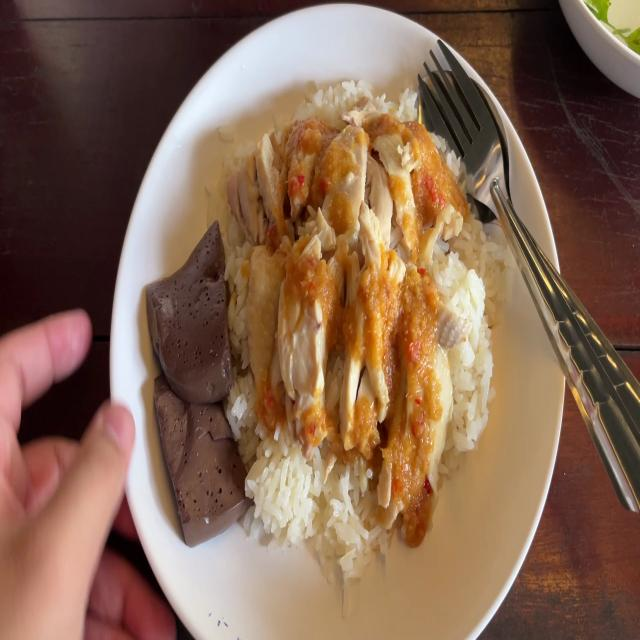boiled_chicken: (240, 126, 442, 466)
boiled_chicken_blood_jelly: (139, 205, 232, 399), (151, 361, 246, 538)
chicken_rice: (139, 71, 505, 584)
